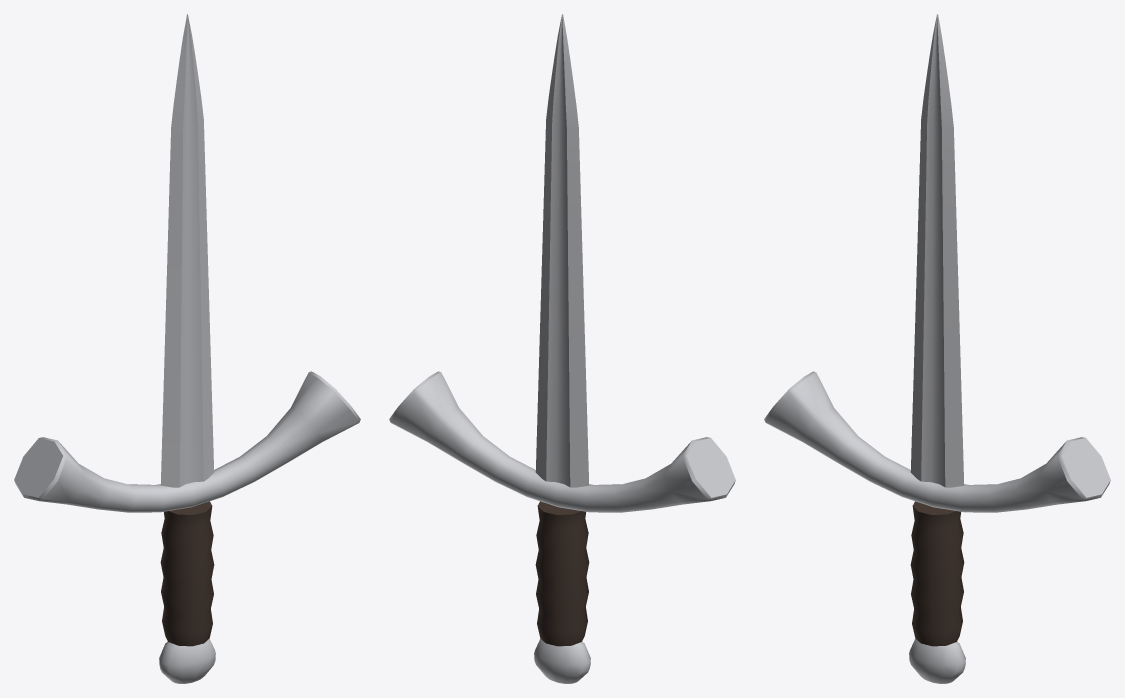
Rendered from parrying_dirk.glb.
The picture shows the model from 3 angles, left to right: view 1: azimuth 30°, elevation 25°; view 2: azimuth 150°, elevation 25°; view 3: azimuth 330°, elevation 25°; orthographic projection.
Visible parts, largest first — view 1: parrying_dirk; view 2: parrying_dirk; view 3: parrying_dirk.
Part boxes in pixels (x1=…): parrying_dirk: x1=14, y1=14, x2=360, y2=683; parrying_dirk: x1=389, y1=14, x2=735, y2=683; parrying_dirk: x1=764, y1=14, x2=1110, y2=683.
Bounding box in the file's own units: 0.221 × 0.4282 × 0.0389.
